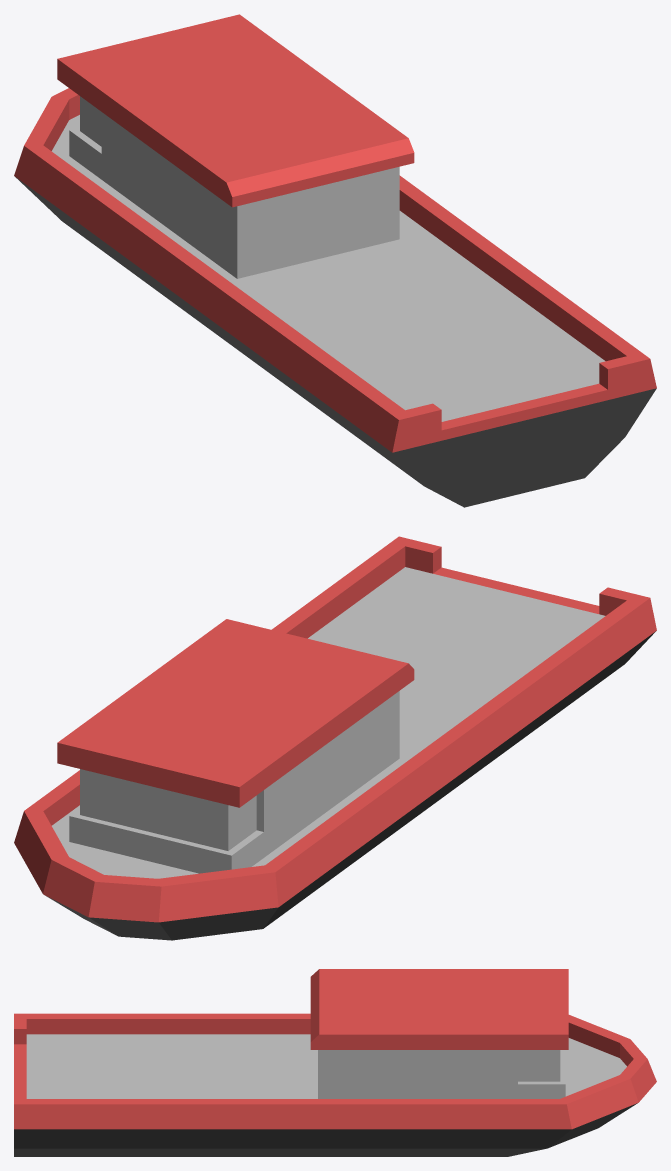
The model's file is boat_003.fbx.
3 views of the same model, one above another, from view 1: azimuth 30°, elevation 25°; view 2: azimuth 150°, elevation 25°; view 3: azimuth 270°, elevation 25° (orthographic). The views are drawn at different scales.
Visible parts, largest first — view 1: boat_003; view 2: boat_003; view 3: boat_003.
Part boxes in pixels (x1,y1,x2,y2): boat_003: (14,14,656,507); boat_003: (14,536,656,940); boat_003: (14,969,656,1156).
Bounding box in the file's own units: 36.95 × 24.14 × 105.
